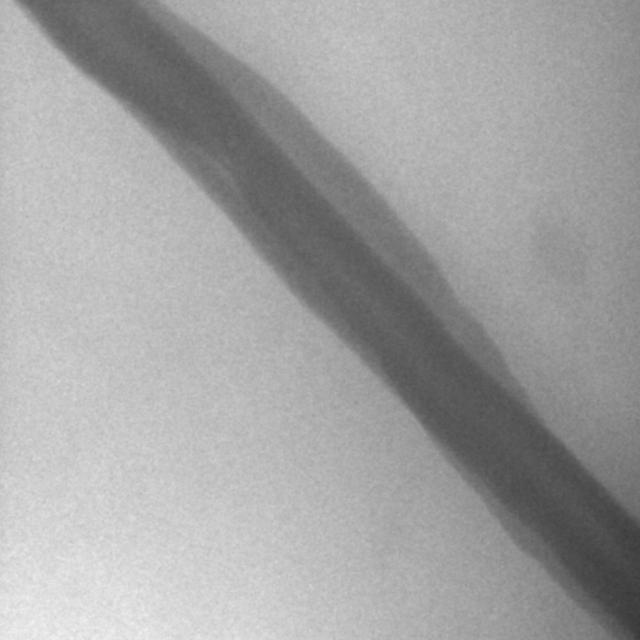unfused: (188, 142, 245, 191)
